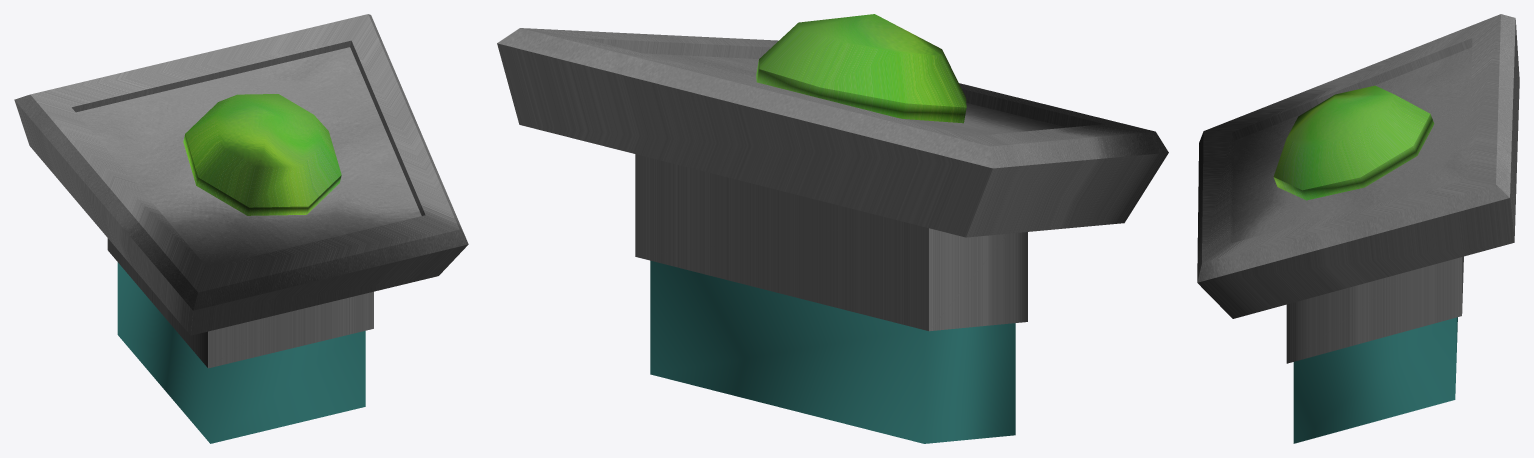
The model's file is MemeFactory_GreenButton_Art.fbx.
3 views of the same model, side by side, from view 1: azimuth 30°, elevation 25°; view 2: azimuth 150°, elevation 25°; view 3: azimuth 270°, elevation 25° (orthographic). The views are drawn at different scales.
Visible parts, largest first — view 1: MemeFactory_GreenButton_Art; view 2: MemeFactory_GreenButton_Art; view 3: MemeFactory_GreenButton_Art.
Boxes of the visible parts, box(x1,y1,x2,y2) form: MemeFactory_GreenButton_Art: box(14, 14, 468, 443); MemeFactory_GreenButton_Art: box(497, 14, 1168, 443); MemeFactory_GreenButton_Art: box(1197, 14, 1519, 443).
Bounding box in the file's own units: 143 × 115 × 108.
